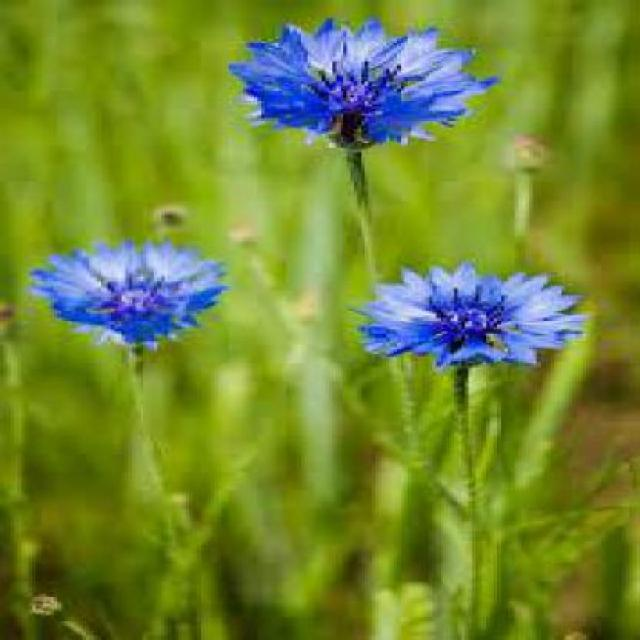flower: (248, 26, 478, 146), (348, 258, 588, 372), (32, 247, 222, 336)
